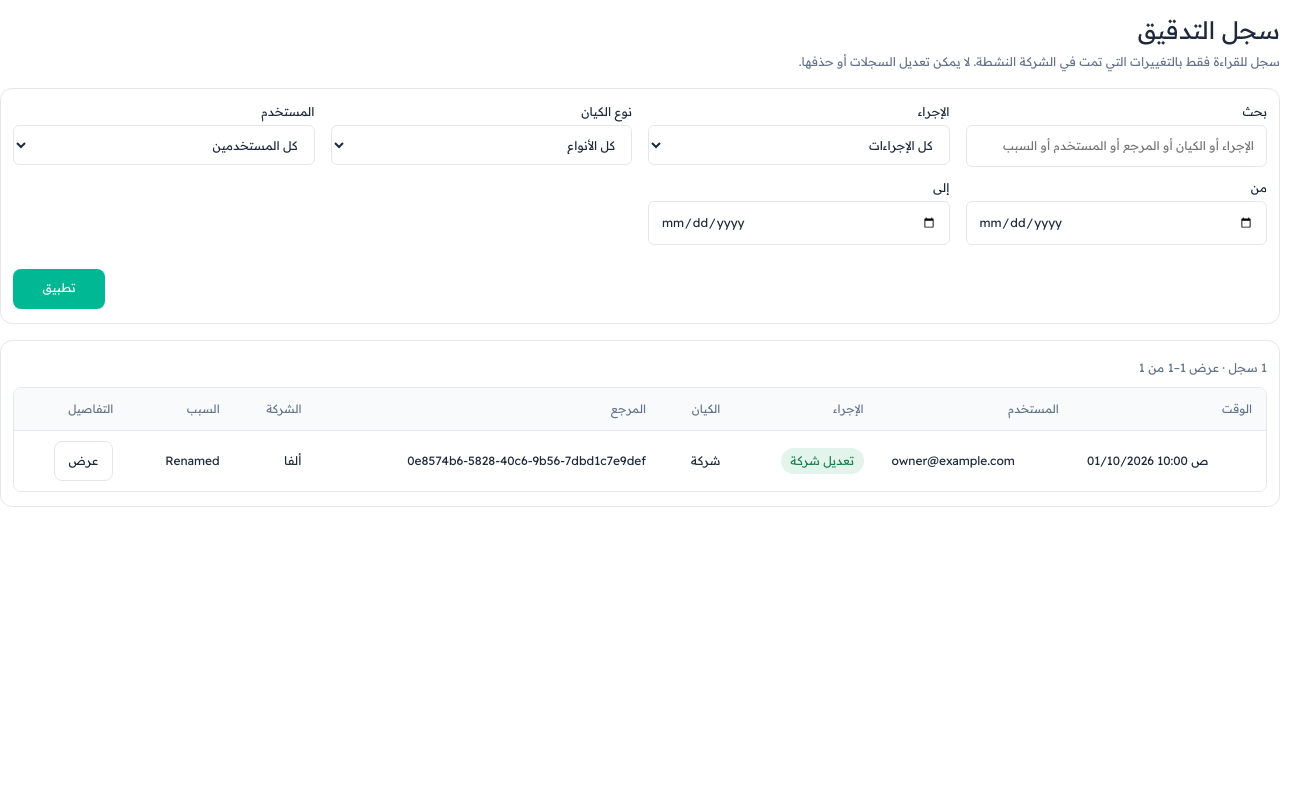
it: AuditLog › shows Arabic labels and readable details
What coordinates should you click on to do the following:
click the button "عرض"
I would click on:
 (84, 461)
Its box is [54, 441, 113, 481].
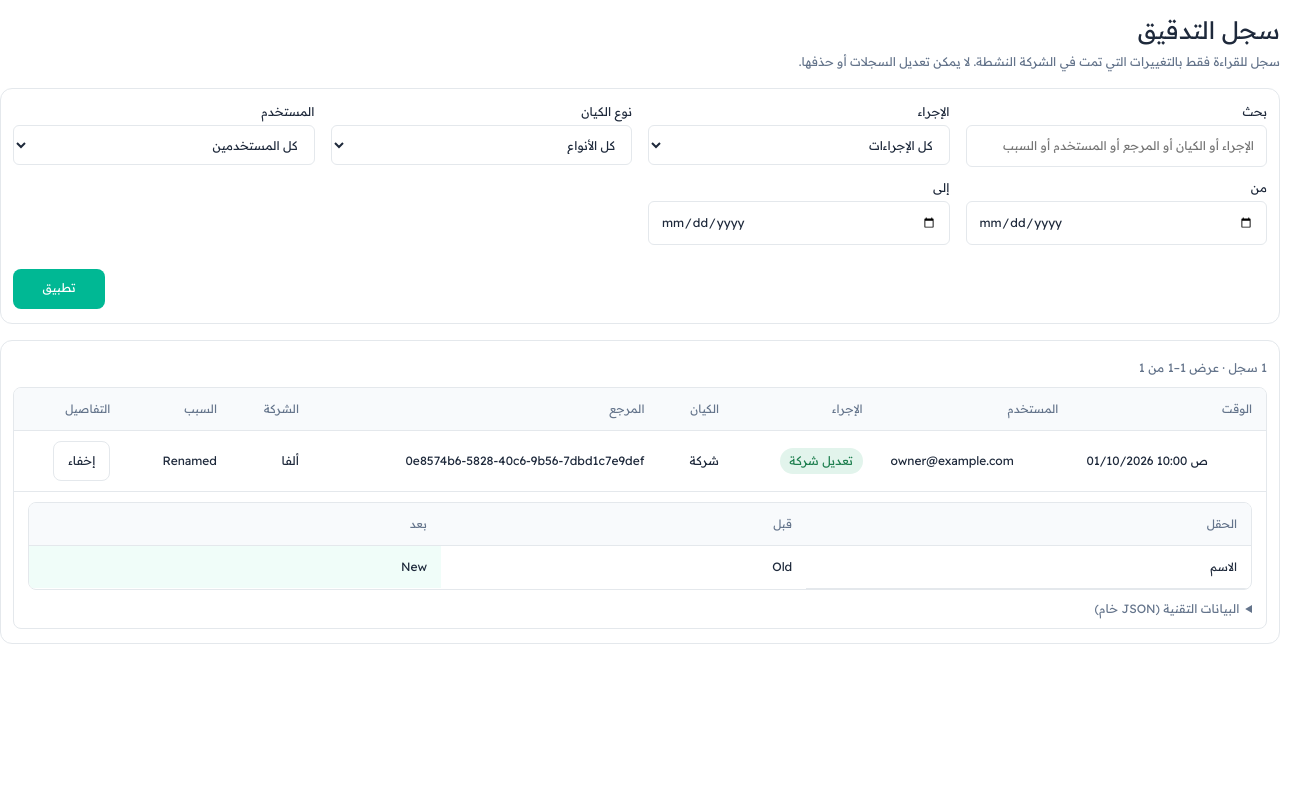
Expected: the column heading "الاسم" is shown, [806, 545, 1251, 588]
